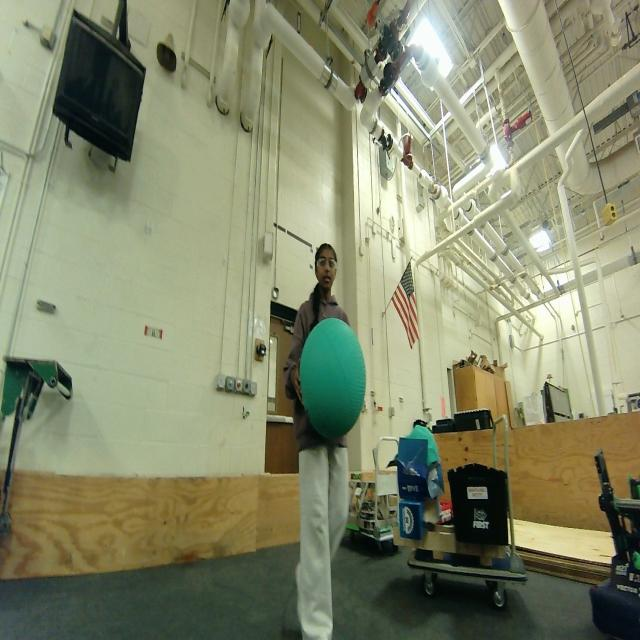algae: (299, 318, 366, 440)
